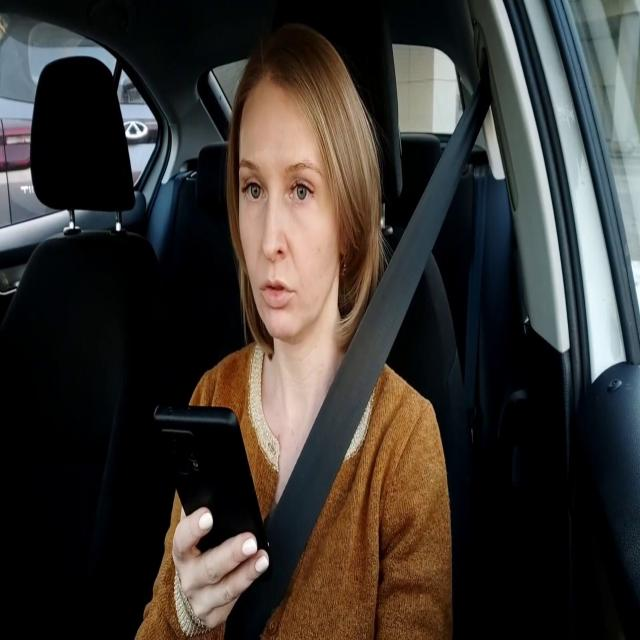phone: (152, 399, 284, 608)
